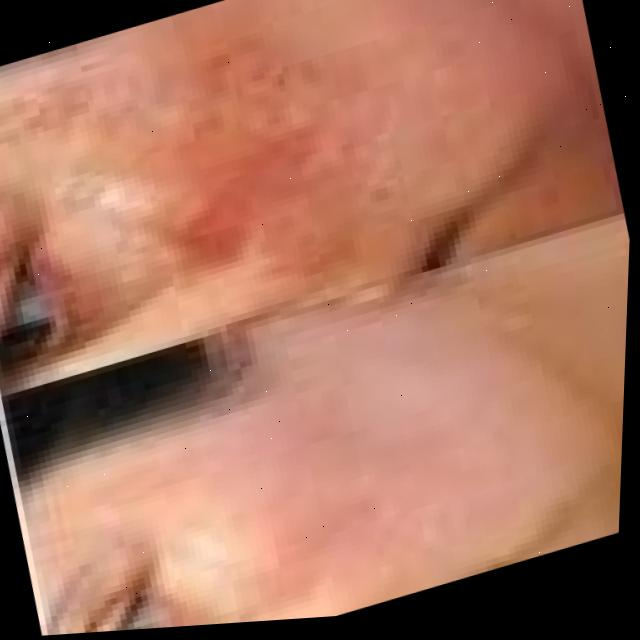Melasma: (52, 13, 439, 361)
